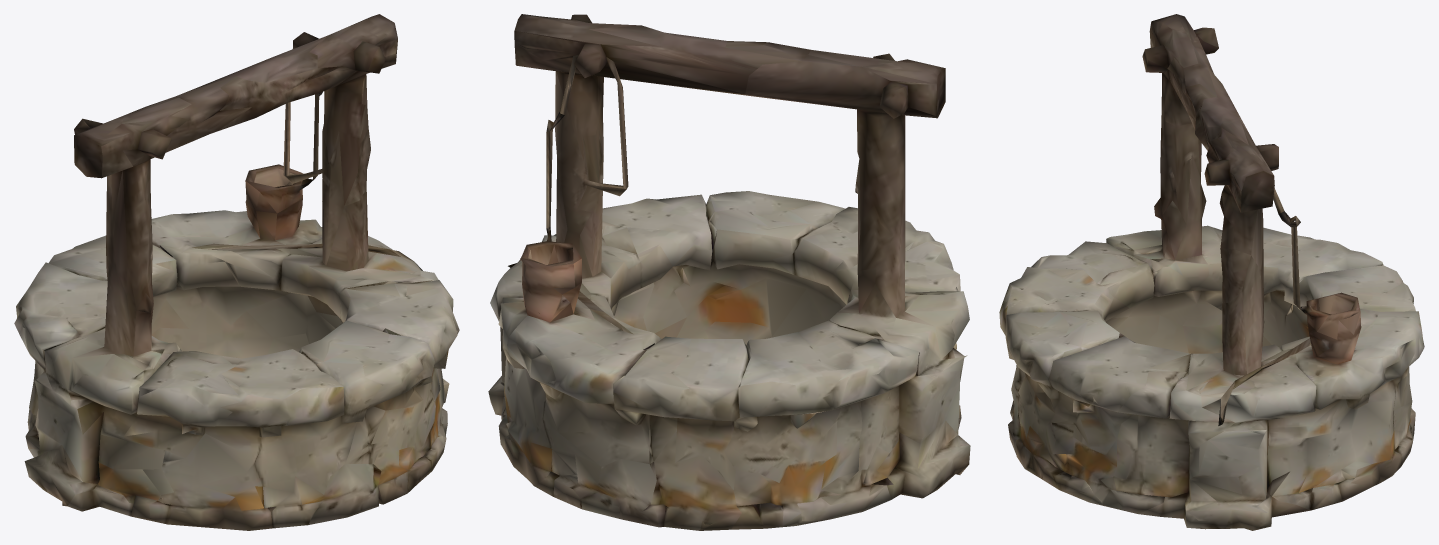
Rendered from ch5-cistern.glb.
The picture shows the model from 3 angles, left to right: view 1: azimuth 30°, elevation 25°; view 2: azimuth 150°, elevation 25°; view 3: azimuth 270°, elevation 25°; orthographic projection. The views are drawn at different scales.
Visible parts, largest first — view 1: tripo_node_2bdcf87b-03d7-49f6-bb1d-c020d541f6be; view 2: tripo_node_2bdcf87b-03d7-49f6-bb1d-c020d541f6be; view 3: tripo_node_2bdcf87b-03d7-49f6-bb1d-c020d541f6be.
Part boxes in pixels (x1,y1,x2,y2): tripo_node_2bdcf87b-03d7-49f6-bb1d-c020d541f6be: (14,14,459,530); tripo_node_2bdcf87b-03d7-49f6-bb1d-c020d541f6be: (488,14,970,530); tripo_node_2bdcf87b-03d7-49f6-bb1d-c020d541f6be: (999,14,1424,530).
Bounding box in the file's own units: 1.75 × 1.55 × 1.71.
Materials: 1 (1 with a texture image).
